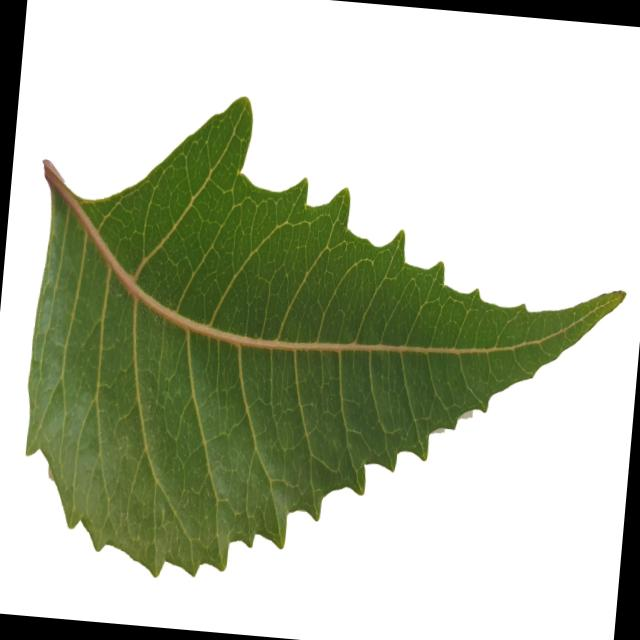Medicinal-Neem: (0, 77, 640, 612)
